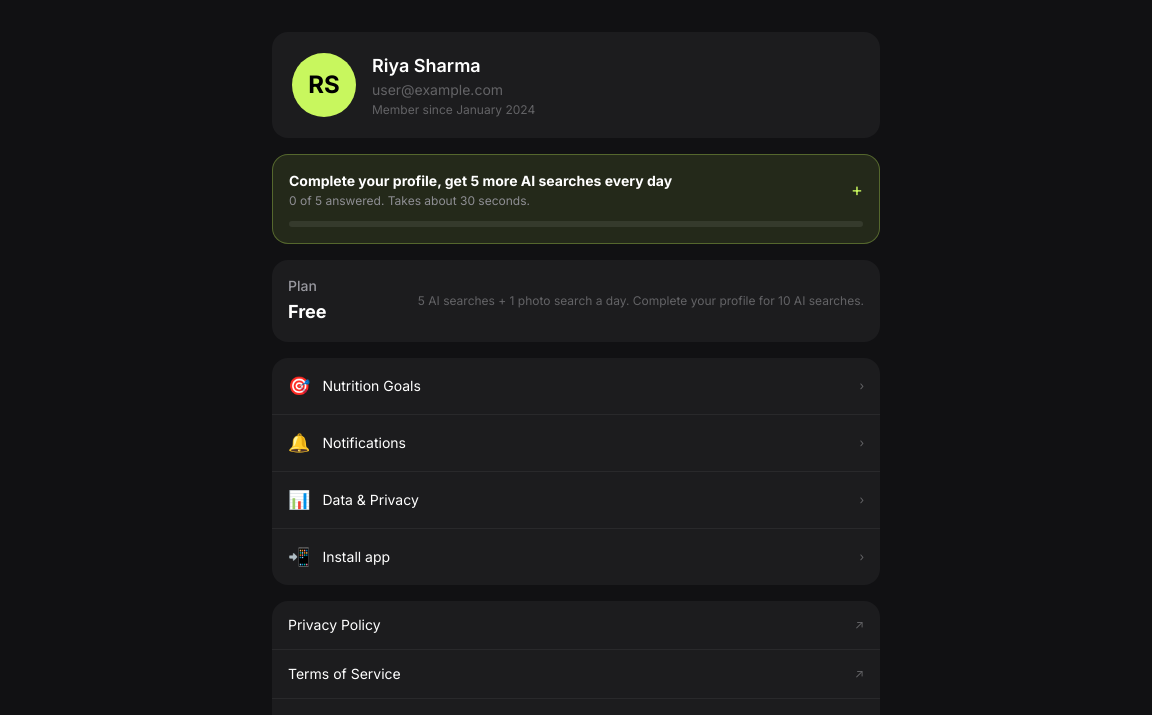
Test: ProfileTab — settings rows › Data & Privacy row opens DataPrivacyModal
Expected: the text "Riya Sharma" is shown, [372,55,481,76]
Click the text "Data & Privacy" at (371, 500), box [322,491,419,508]
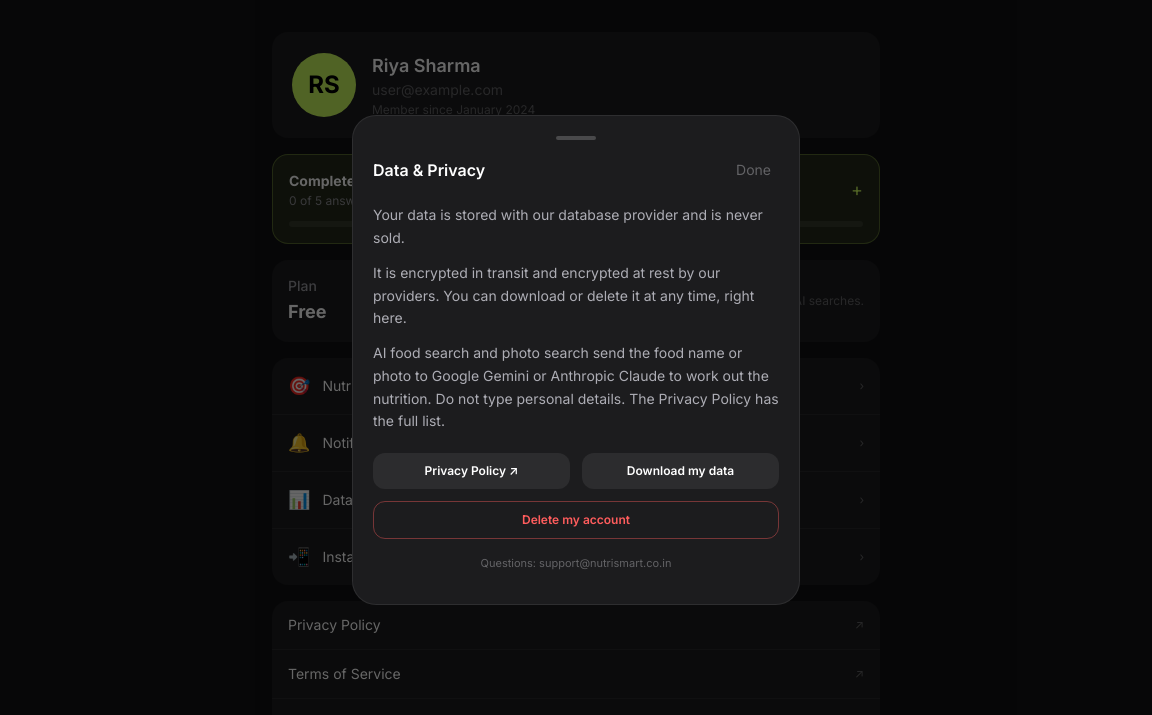
Expected: the link "Privacy Policy ↗" is shown, [373,453,570,489]
